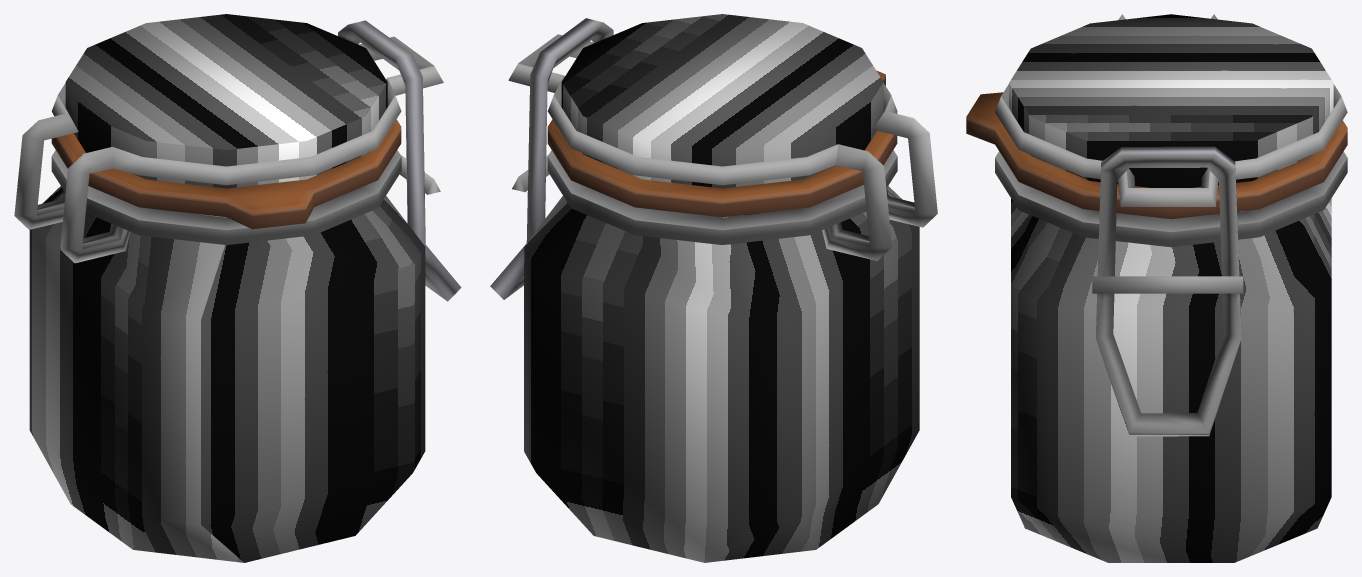
File: rmk_oth_pickles.dae
3 views of the same model, side by side, from view 1: azimuth 30°, elevation 25°; view 2: azimuth 150°, elevation 25°; view 3: azimuth 270°, elevation 25° (orthographic).
Parts seen in each view (by area): view 1: rmk_oth_pickles; view 2: rmk_oth_pickles; view 3: rmk_oth_pickles.
Boxes of the visible parts, x1=… form: rmk_oth_pickles: x1=14, y1=14, x2=461, y2=562; rmk_oth_pickles: x1=490, y1=14, x2=937, y2=562; rmk_oth_pickles: x1=966, y1=14, x2=1347, y2=562.
Size of the model in its own units: 15.26 by 15.16 by 12.36.
Materials: 2 (2 with a texture image).
